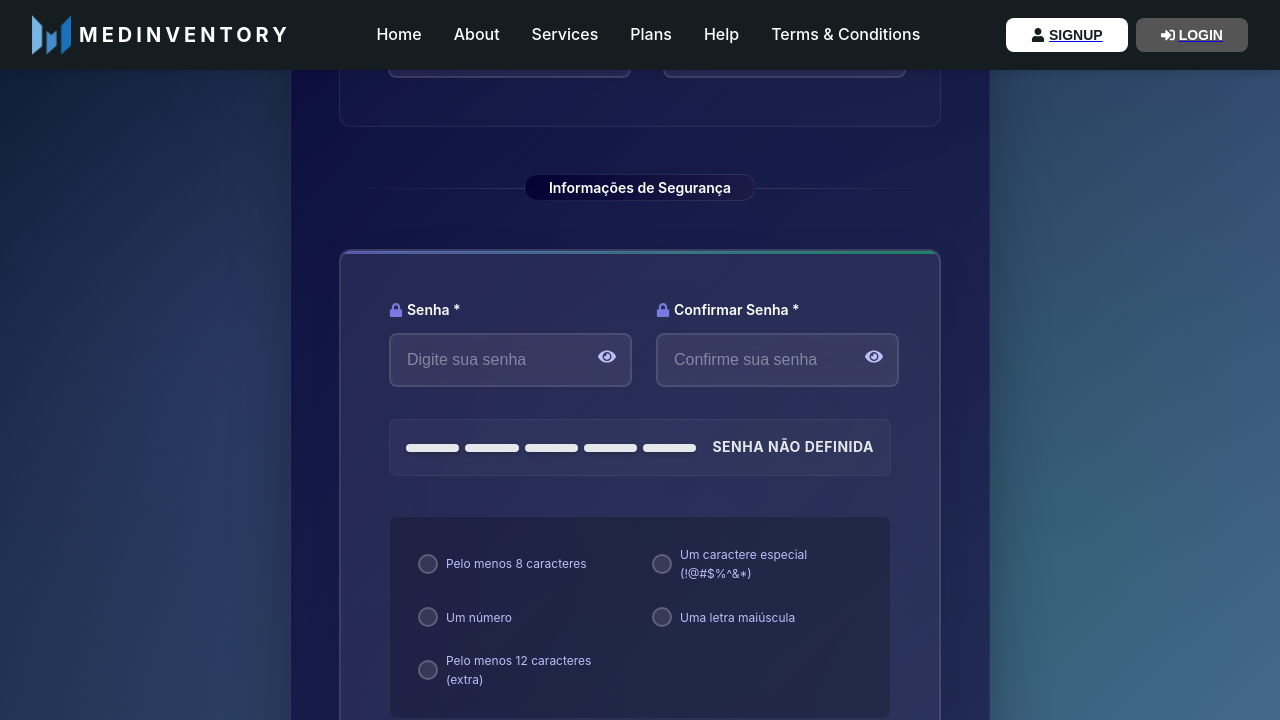
Scenario: Signup Page › Interações do usuário › mostra/esconde senha ao clicar no botão
(page scrolled)
Type "Password123!" into the password field with placeholder "Digite sua senha". click: (511, 360)
box: [389, 333, 632, 387]
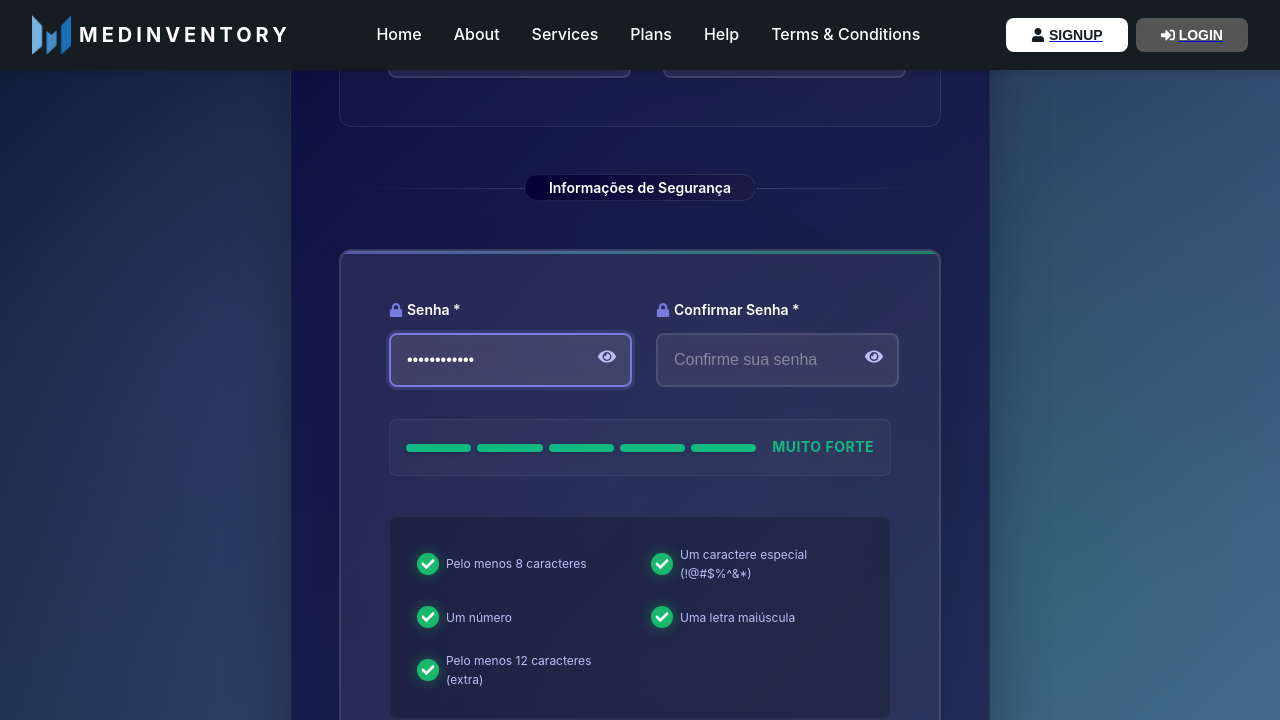
Note: Encontrar e clicar no span de toggle password
Click the 1st element with class "signup-toggle-password". click: click(607, 361)
box: [598, 346, 616, 375]
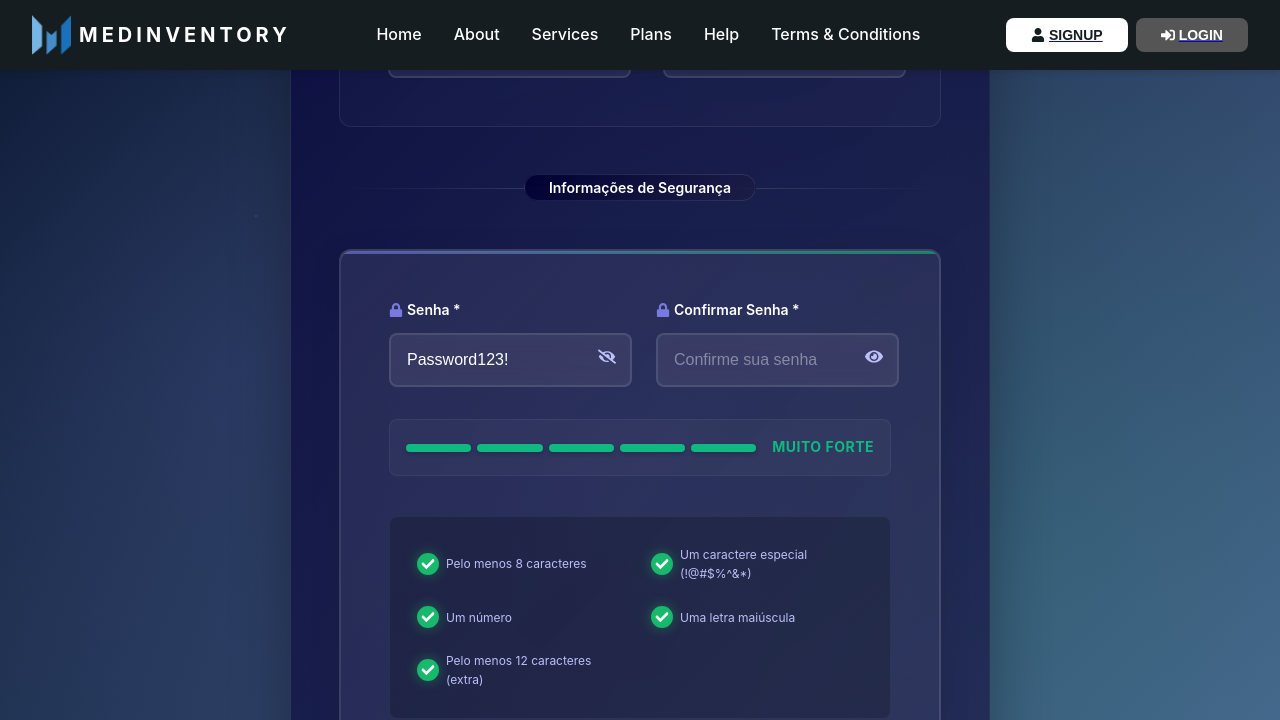
Now the field shows its text, box [389, 333, 632, 387]
Note: Clicar novamente para esconder
Click the 1st element with class "signup-toggle-password". click: click(607, 361)
box: [598, 346, 616, 375]
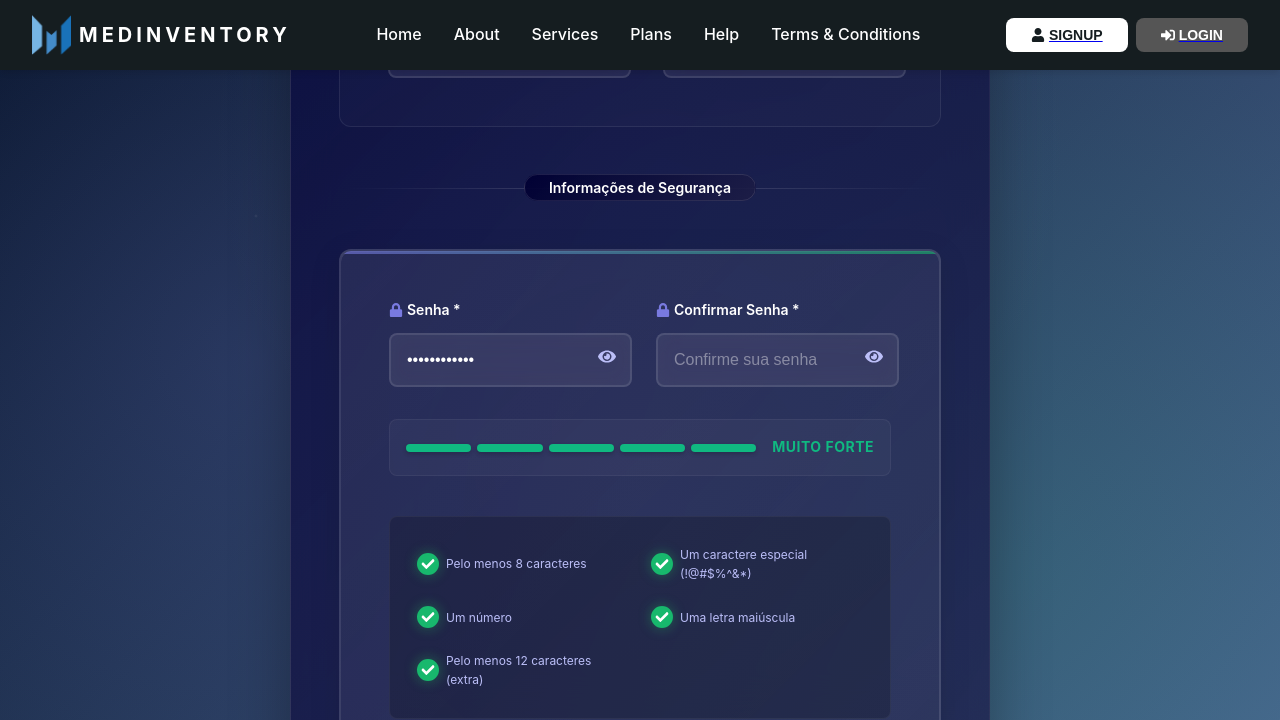
Now the 1st password field hides its text, box [389, 333, 632, 387]
